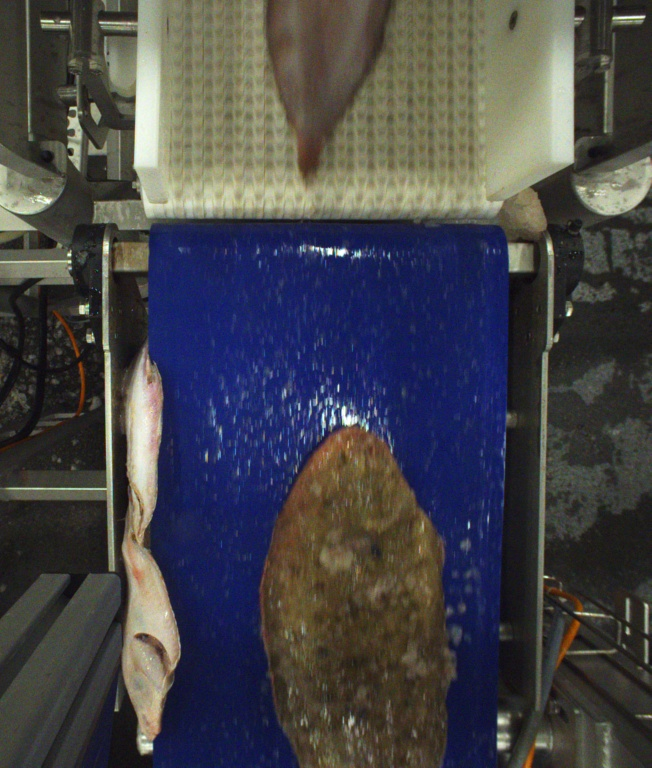SOL: (266, 0, 388, 194)
